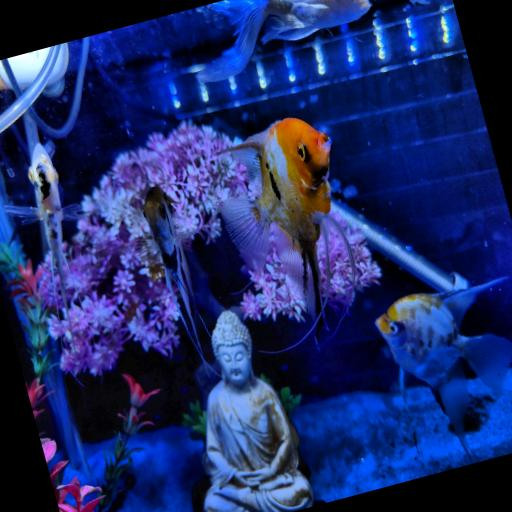Fish: (220, 118, 354, 327), (375, 279, 511, 462), (3, 143, 84, 352), (197, 0, 370, 82), (141, 187, 208, 367)
